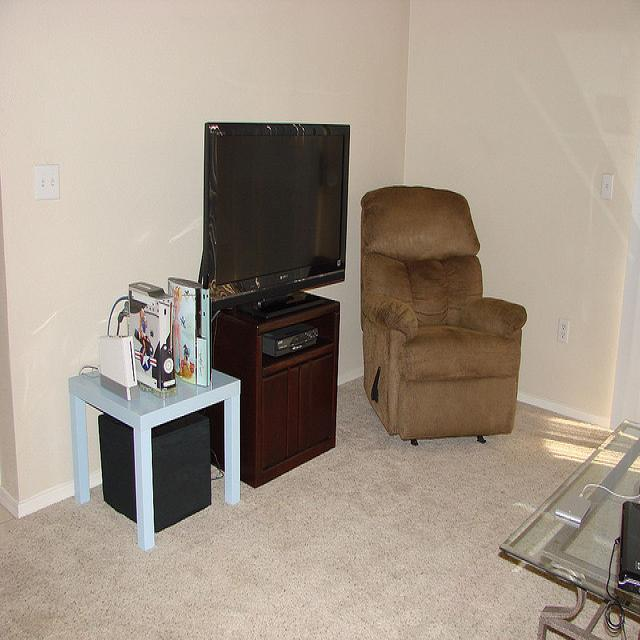chair: (360, 186, 527, 442)
dining table: (499, 417, 640, 640)
